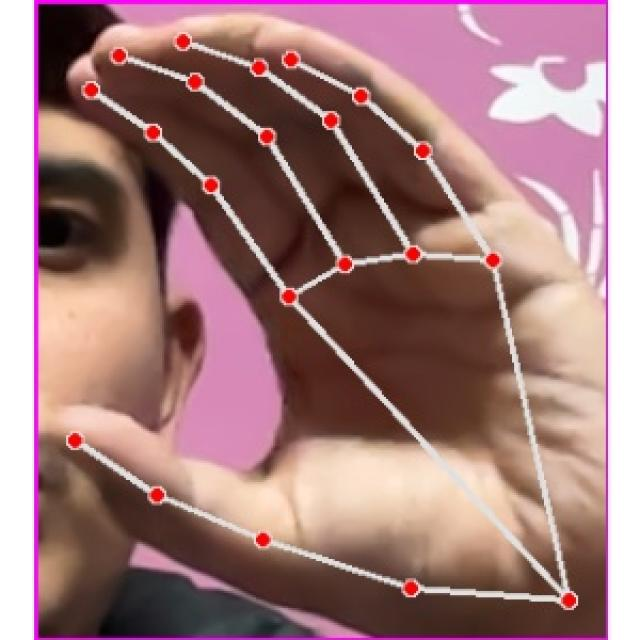C: (52, 29, 595, 640)
